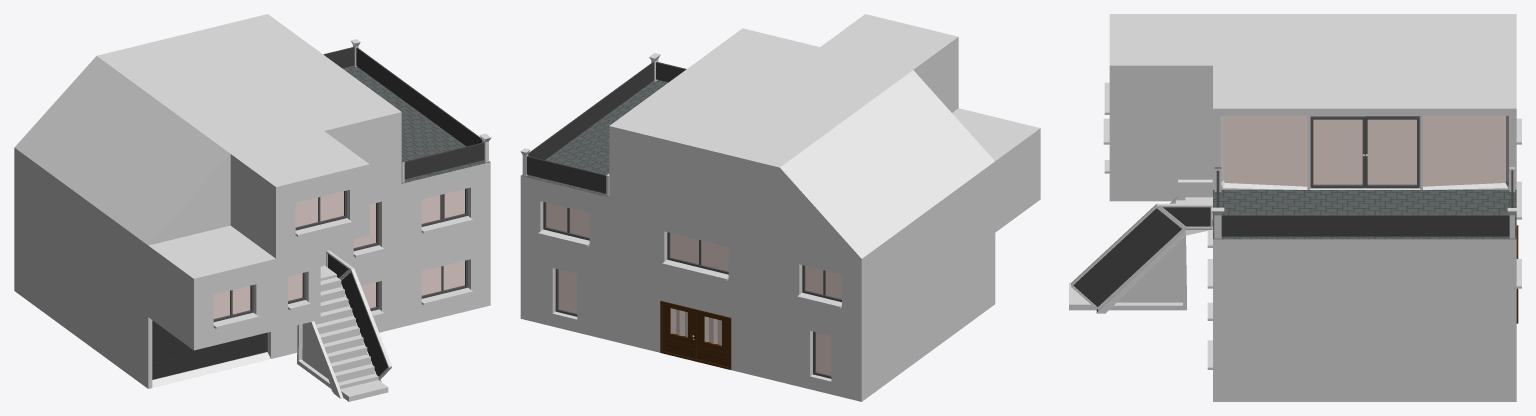
Rendered from Maison-3Etage.fbx.
3 views of the same model, side by side, from view 1: azimuth 30°, elevation 25°; view 2: azimuth 150°, elevation 25°; view 3: azimuth 270°, elevation 25° (orthographic). The views are drawn at different scales.
Parts seen in each view (by area): view 1: Partie1; view 2: Partie1; view 3: Partie1.
Boxes of the visible parts, x1,y1,x2,y2 form: Partie1: (14,14,491,401); Partie1: (520,14,1040,401); Partie1: (1069,14,1521,401).
Bounding box in the file's own units: 1739 × 1045 × 1755.
10 materials, 1 textured.
